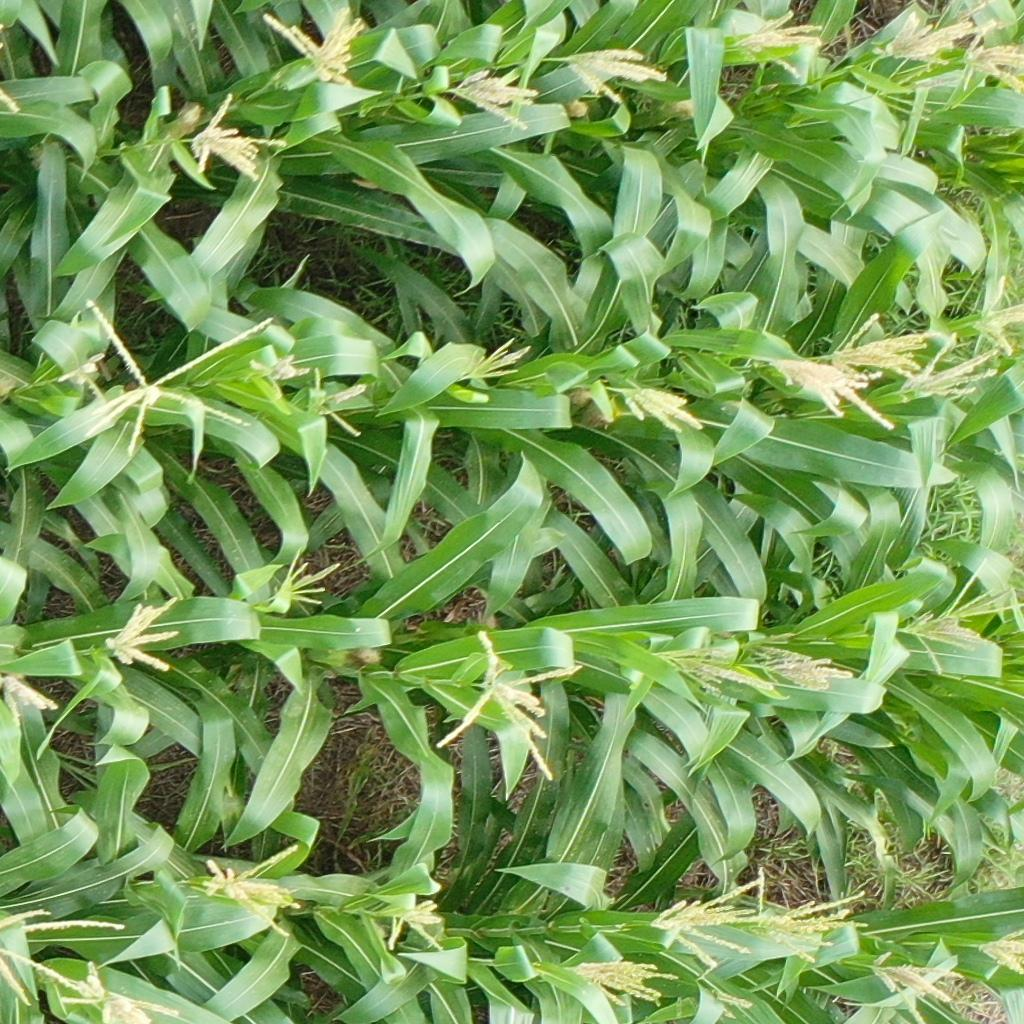Tassel: (87, 300, 274, 464), (429, 627, 581, 783), (650, 876, 788, 973), (1, 905, 126, 1007), (754, 867, 872, 967), (192, 842, 304, 942), (769, 353, 900, 436), (186, 90, 287, 182), (261, 10, 366, 93), (726, 4, 826, 86), (896, 331, 1004, 402), (650, 644, 773, 706), (62, 961, 180, 1024), (861, 55, 966, 123), (823, 311, 930, 377), (448, 61, 546, 133), (562, 45, 671, 108), (872, 951, 966, 1024), (900, 610, 1001, 677), (102, 594, 181, 675), (875, 11, 995, 64), (930, 556, 1024, 623), (563, 959, 679, 1008), (300, 367, 369, 437), (616, 385, 709, 432), (970, 276, 1024, 353), (269, 549, 339, 607), (959, 30, 1023, 93), (384, 898, 448, 955), (453, 337, 533, 381), (759, 654, 850, 692), (1, 671, 61, 724), (242, 351, 310, 397), (53, 352, 109, 406), (737, 629, 811, 664), (975, 926, 1024, 976), (936, 1, 987, 31), (710, 991, 750, 1017)
